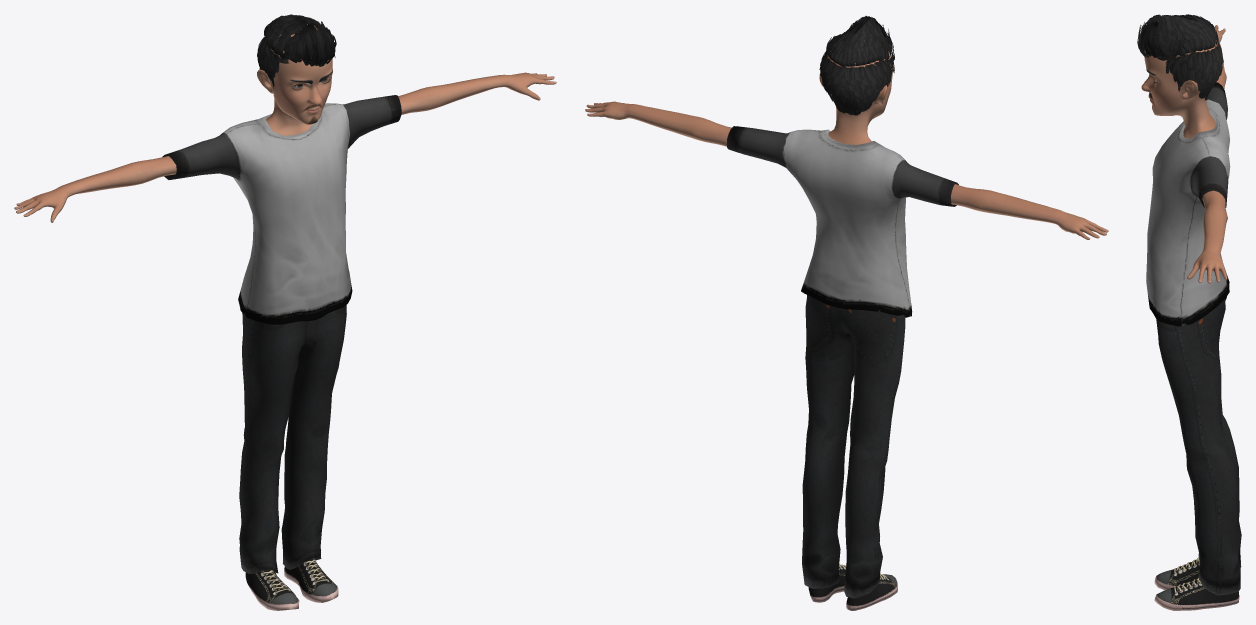
Rendered from Gamer 2.obj.
3 renders of one model, left to right at view 1: azimuth 30°, elevation 25°; view 2: azimuth 150°, elevation 25°; view 3: azimuth 270°, elevation 25°, orthographic. The views are drawn at different scales.
Parts seen in each view (by area): view 1: Tops, Bottoms, Body, Hair, Shoes; view 2: Bottoms, Tops, Body, Hair, Shoes; view 3: Bottoms, Tops, Body, Hair, Shoes.
Part boxes in pixels (x1,y1,x2,y2): Tops: (162, 95, 401, 324); Bottoms: (239, 305, 346, 573); Body: (14, 24, 556, 222); Hair: (257, 14, 336, 86); Shoes: (245, 558, 338, 610); Bottoms: (802, 295, 905, 598); Tops: (727, 126, 958, 317); Body: (585, 41, 1108, 239); Hair: (819, 16, 894, 115); Shoes: (808, 564, 897, 610); Bottoms: (1156, 296, 1241, 595); Tops: (1146, 82, 1230, 326); Body: (1141, 25, 1227, 283); Hair: (1137, 14, 1223, 100); Shoes: (1154, 557, 1239, 610).
Size of the model in its own units: 163 by 169 by 27.5.
Materials: 1 (1 with a texture image).
